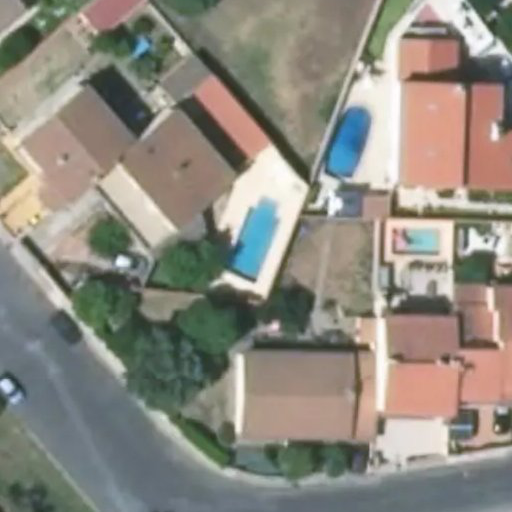pool: (225, 194, 282, 283), (323, 104, 378, 181), (391, 224, 443, 258), (126, 36, 154, 57)
